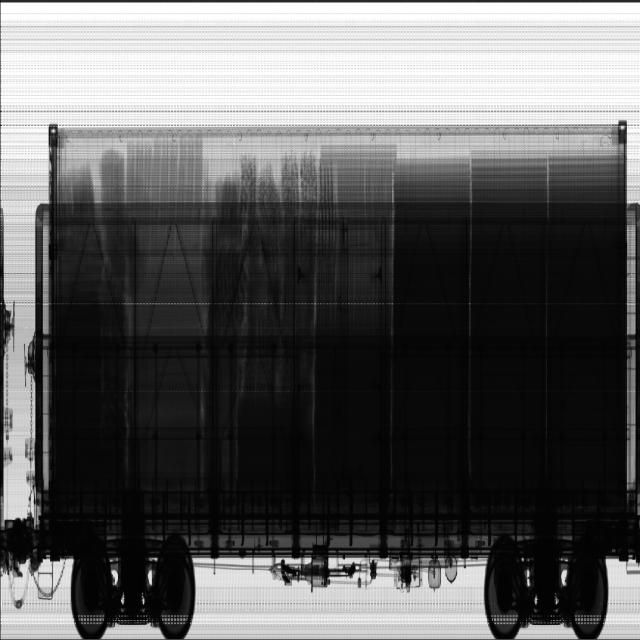clothes: (53, 152, 129, 490)
